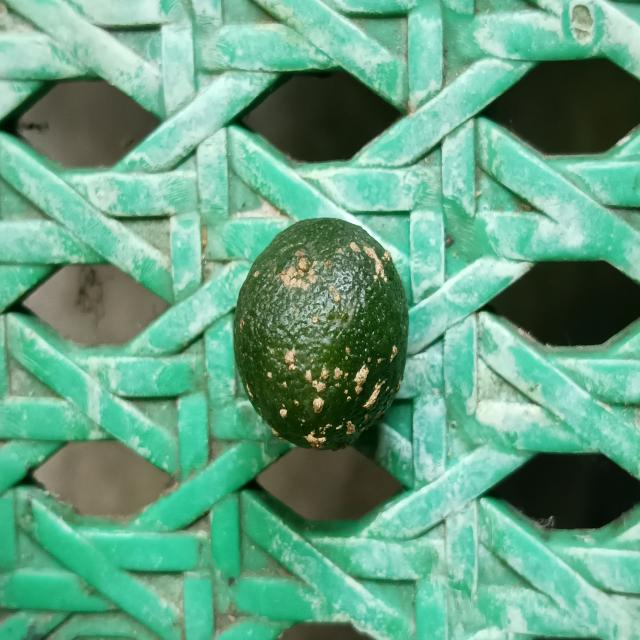scab: (228, 208, 415, 456)
